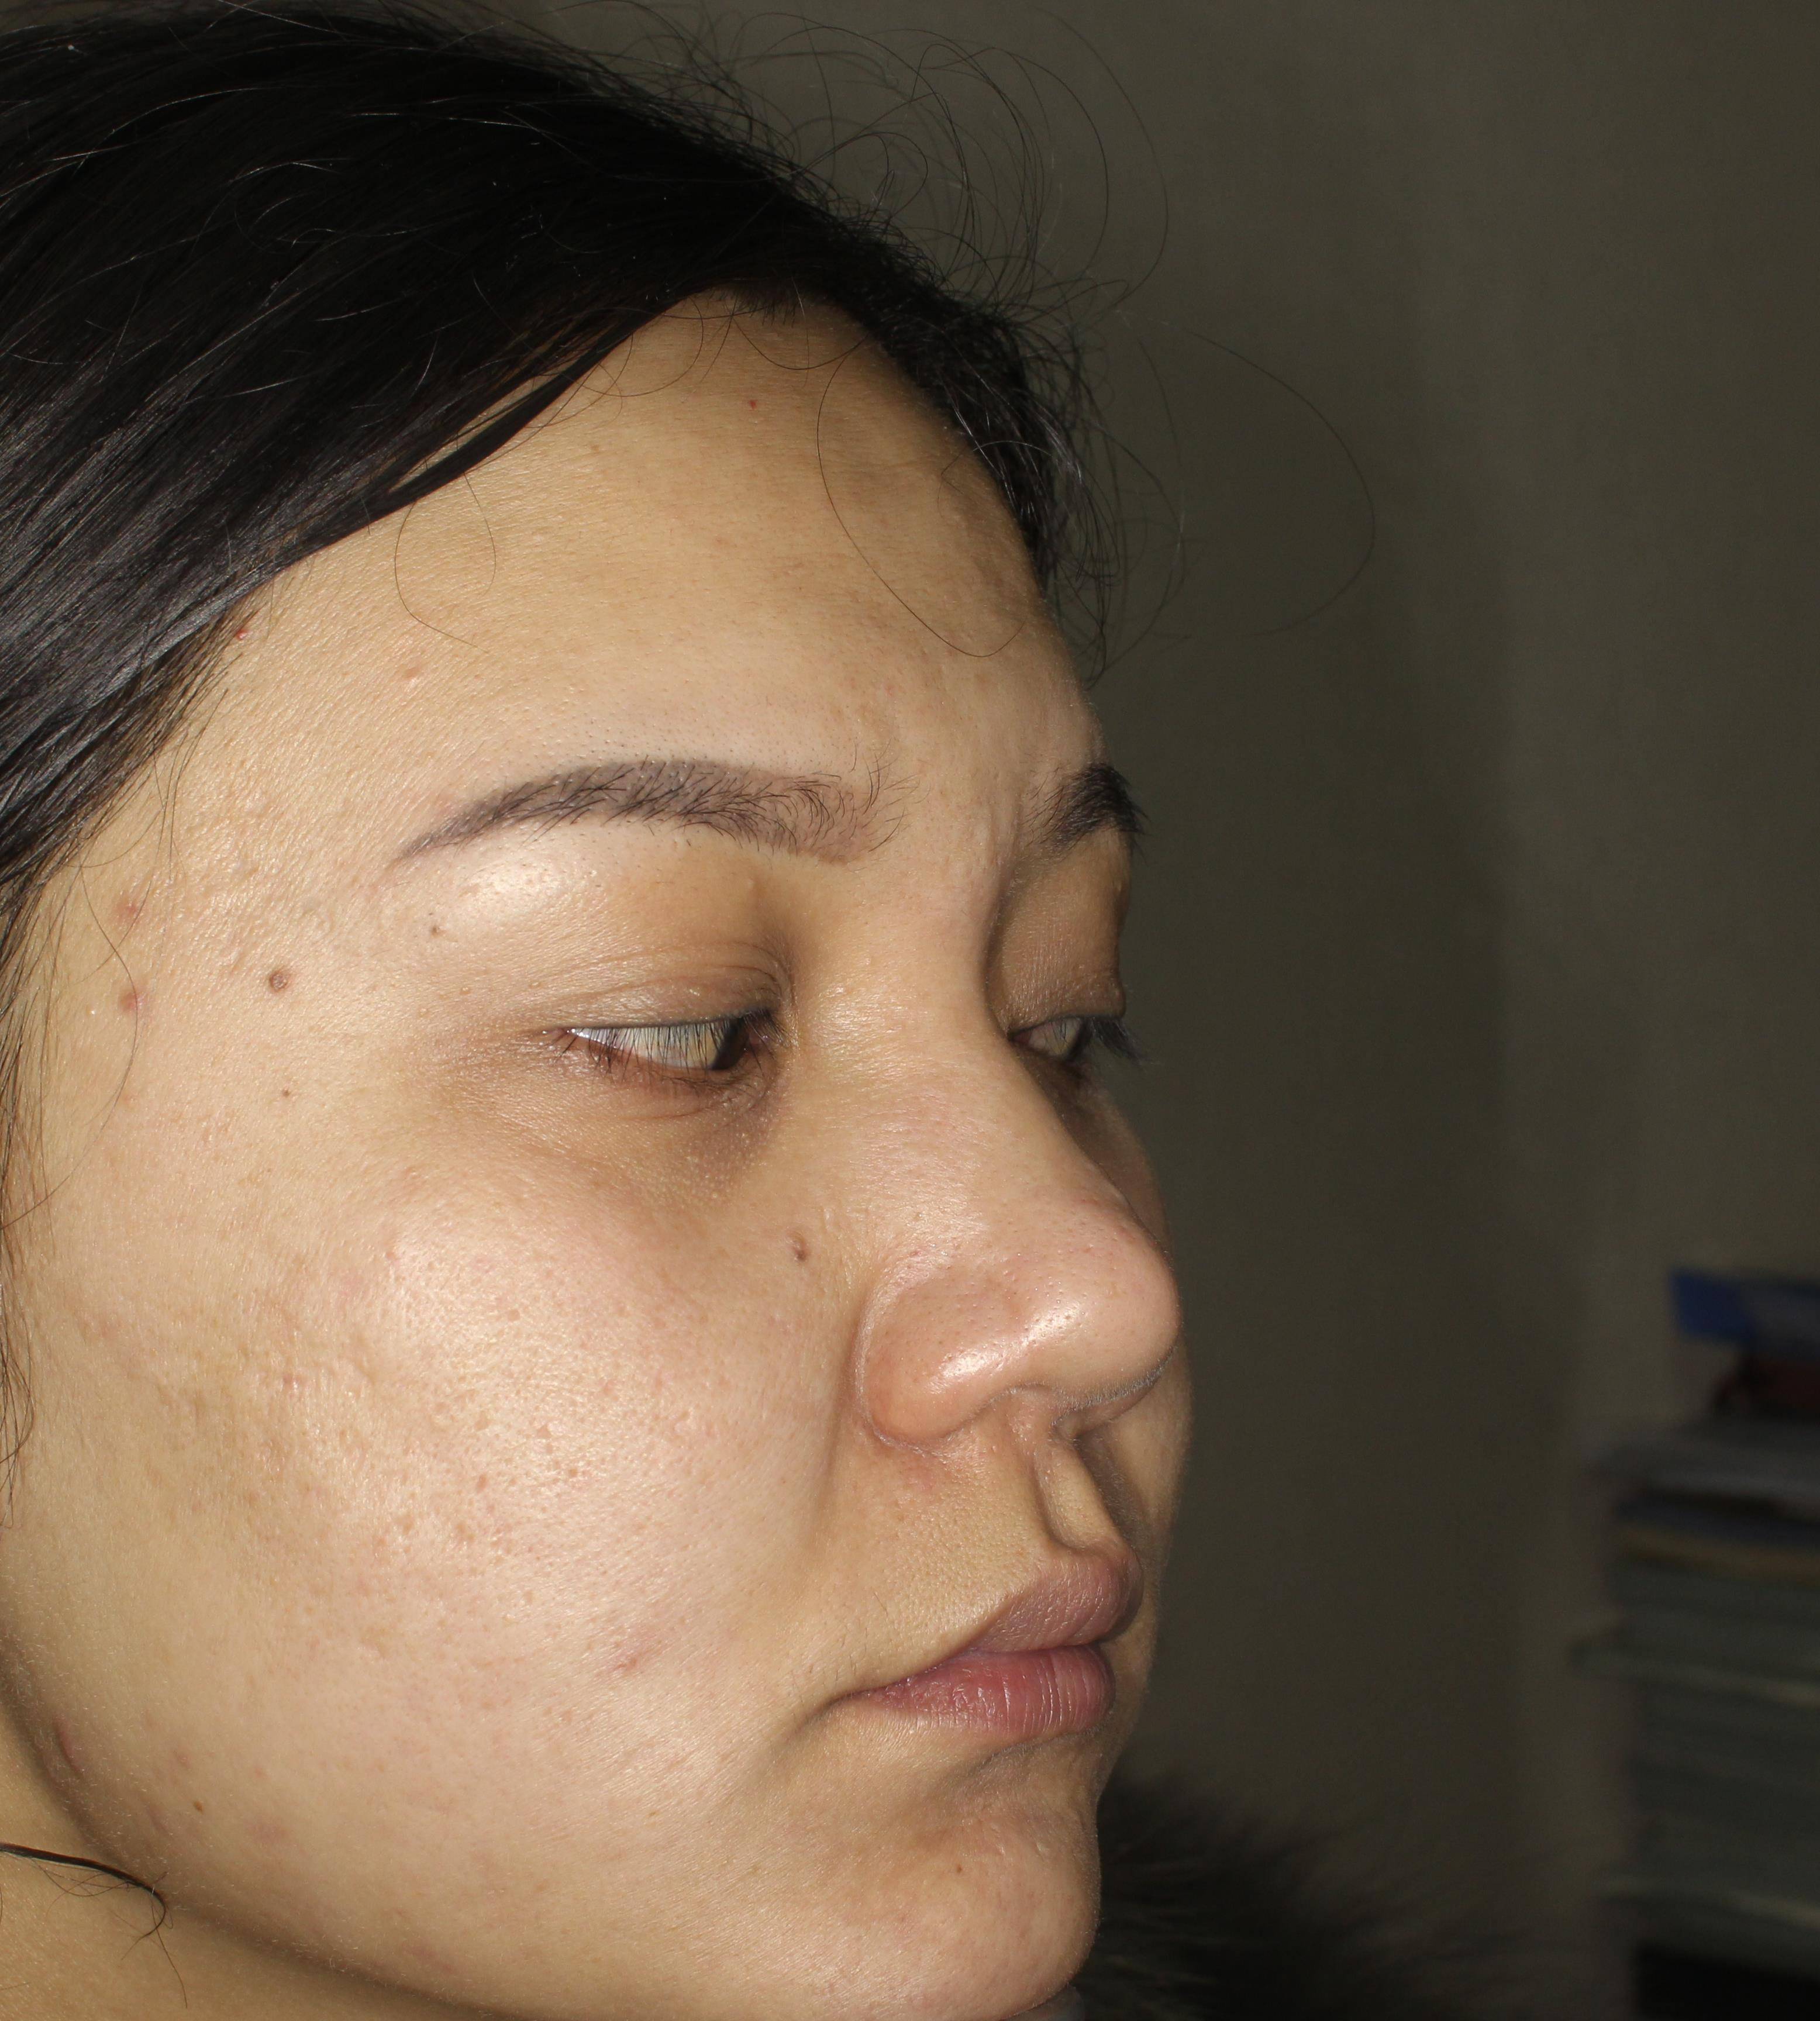fore: (83, 867, 158, 936), (597, 1626, 664, 1684)
